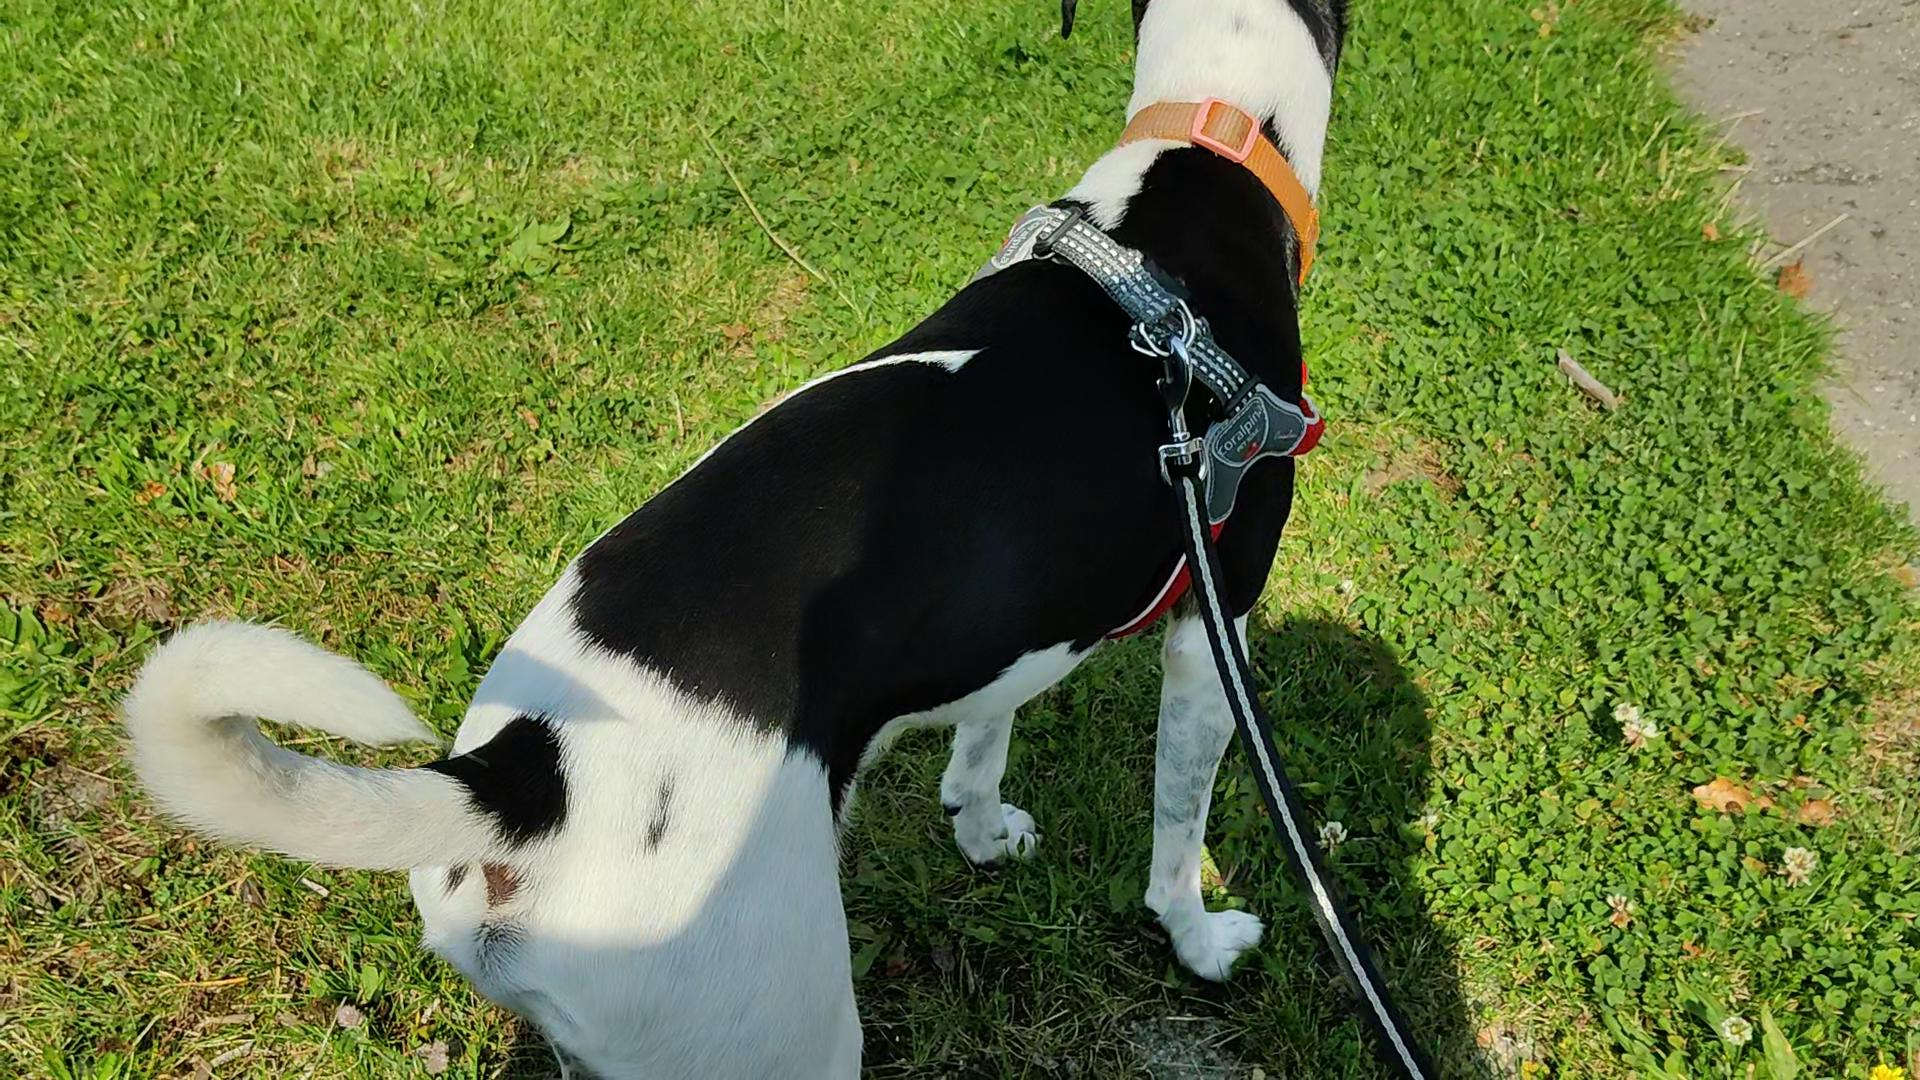Dog: (105, 0, 1352, 1079)
